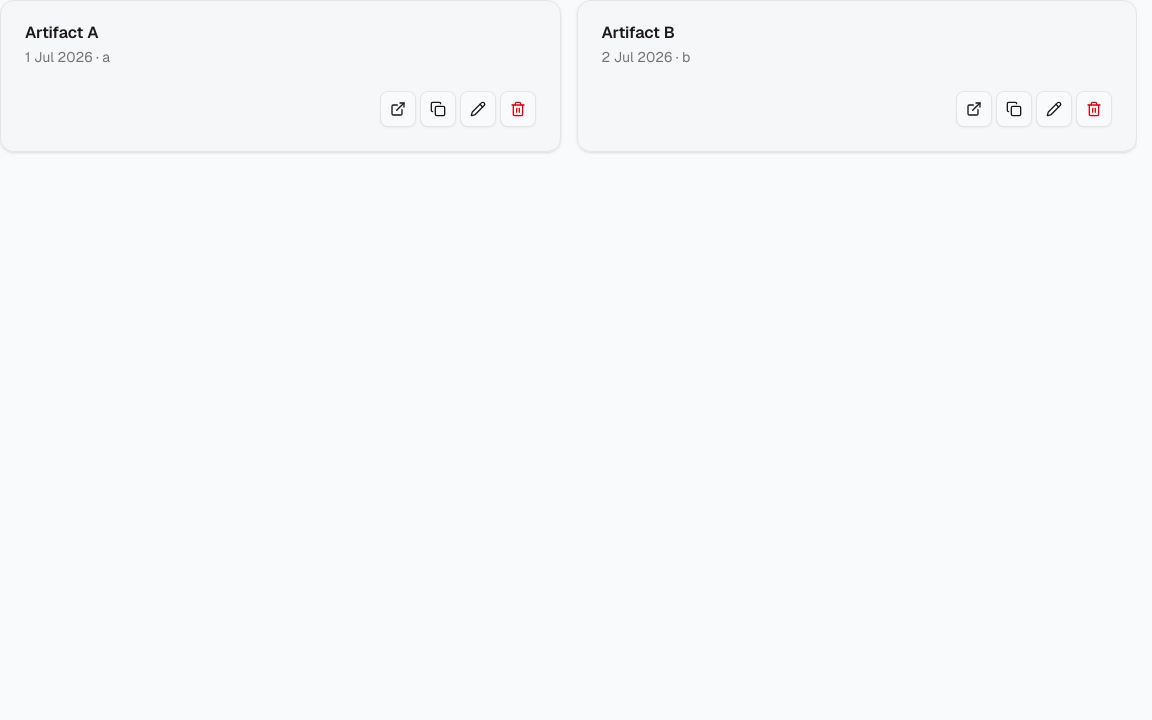
Test: ArtifactList › removes a deleted card immediately, before the request resolves
Click the 1st button named "Delete artifact". click: coordinates (518, 109)
box: x1=500 y1=91 x2=536 y2=127
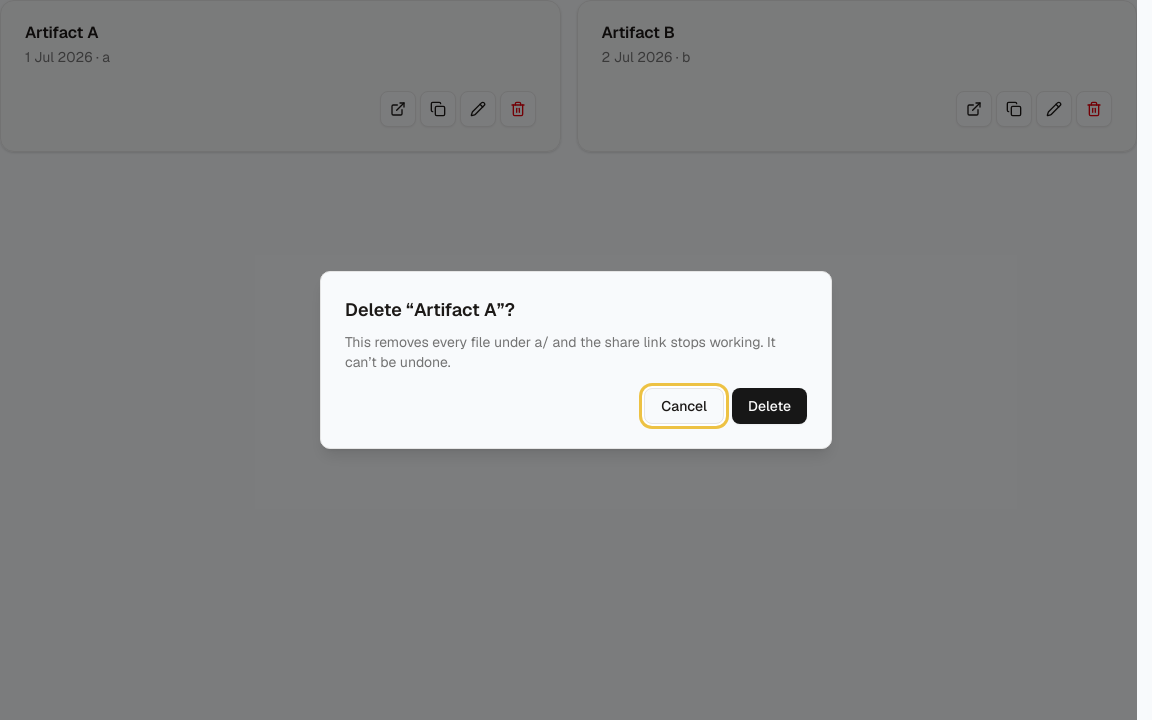
Click the button "Delete". click: coordinates (769, 406)
box: x1=732 y1=388 x2=807 y2=424
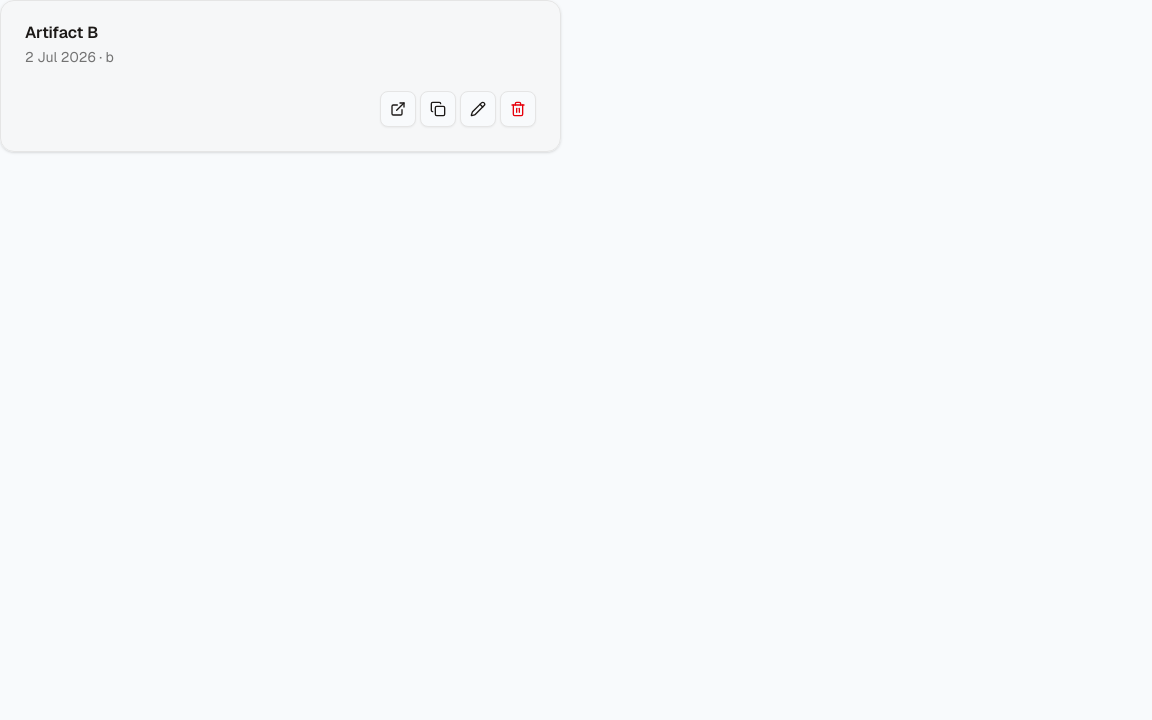
Check: the text "Artifact B" is shown, box x1=25 y1=22 x2=98 y2=43
Check: the text "Artifact A" is gone
